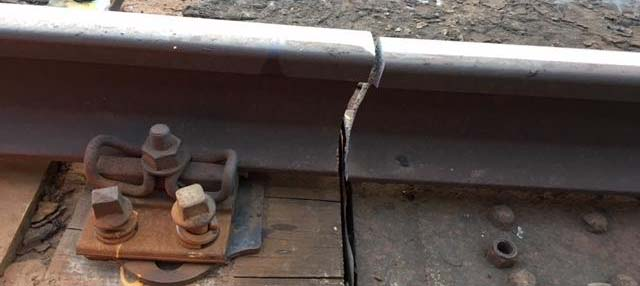error2: (328, 34, 397, 182)
